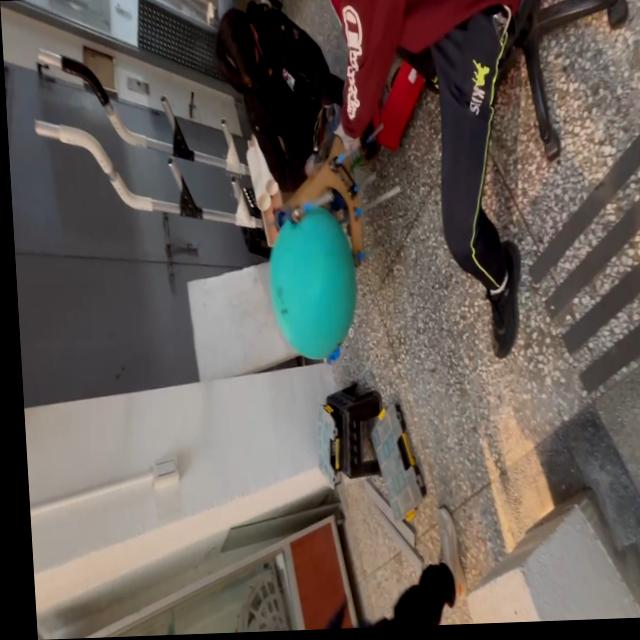ALGAE: (264, 204, 362, 364)
